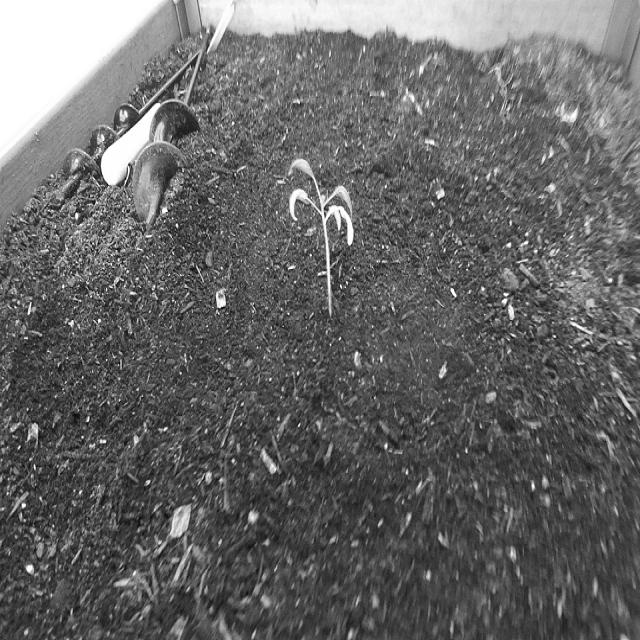Healthy: (288, 155, 356, 318)
